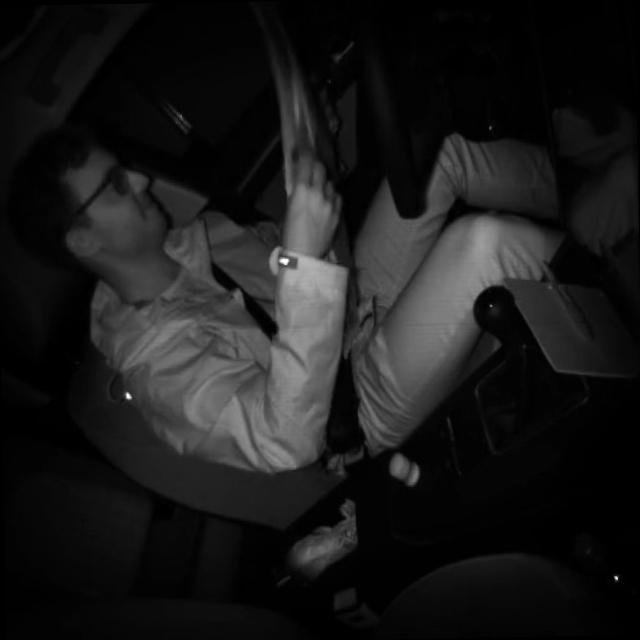pen: (538, 257, 596, 347)
